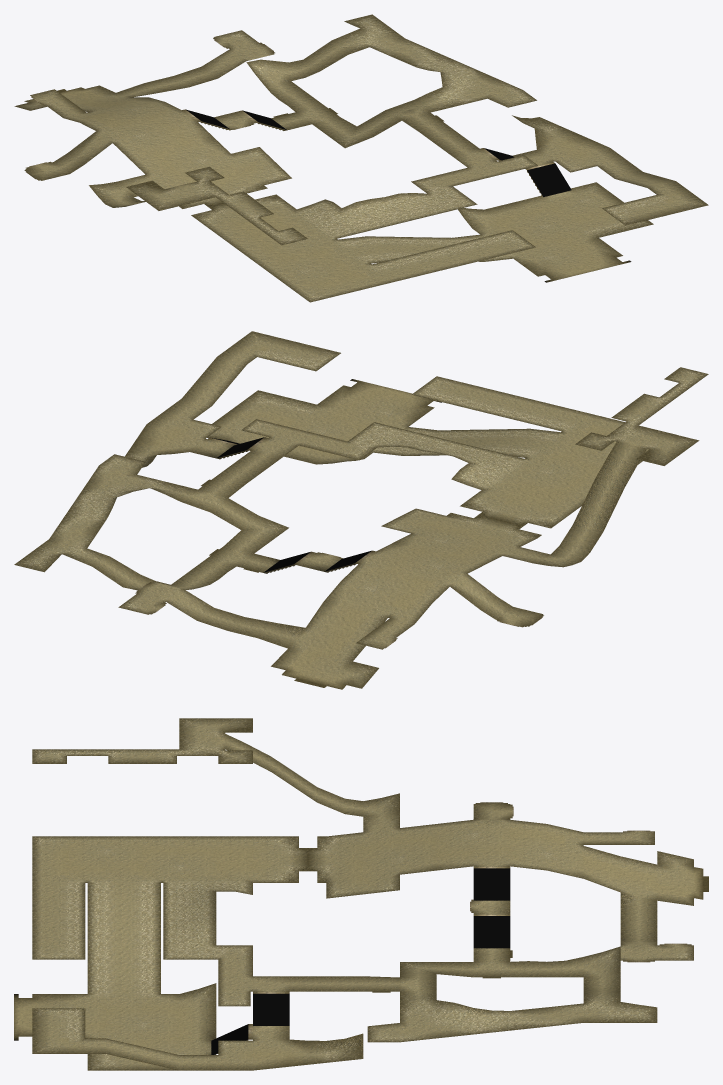
File: MISSION12_INTERIOR_LANDSCAPE01.glb
The picture shows the model from 3 angles, top to bottom: view 1: azimuth 30°, elevation 25°; view 2: azimuth 150°, elevation 25°; view 3: azimuth 270°, elevation 25°; orthographic projection. The views are drawn at different scales.
Parts seen in each view (by area): view 1: MISSION12_INTERIOR_LANDSCAPE01042, MISSION12_INTERIOR_LANDSCAPE01019, MISSION12_INTERIOR_LANDSCAPE01023, MISSION12_INTERIOR_LANDSCAPE01050, MISSION12_INTERIOR_LANDSCAPE01005, MISSION12_INTERIOR_LANDSCAPE01022, MISSION12_INTERIOR_LANDSCAPE01009, MISSION12_INTERIOR_LANDSCAPE01013, MISSION12_INTERIOR_LANDSCAPE01021, MISSION12_INTERIOR_LANDSCAPE01031, MISSION12_INTERIOR_LANDSCAPE01046, MISSION12_INTERIOR_LANDSCAPE01008 (+49 smaller); view 2: MISSION12_INTERIOR_LANDSCAPE01056, MISSION12_INTERIOR_LANDSCAPE01061, MISSION12_INTERIOR_LANDSCAPE01025, MISSION12_INTERIOR_LANDSCAPE01050, MISSION12_INTERIOR_LANDSCAPE01005, MISSION12_INTERIOR_LANDSCAPE01018, MISSION12_INTERIOR_LANDSCAPE01027, MISSION12_INTERIOR_LANDSCAPE01049, MISSION12_INTERIOR_LANDSCAPE01014, MISSION12_INTERIOR_LANDSCAPE01009, MISSION12_INTERIOR_LANDSCAPE01004, MISSION12_INTERIOR_LANDSCAPE01016 (+49 smaller); view 3: MISSION12_INTERIOR_LANDSCAPE01011, MISSION12_INTERIOR_LANDSCAPE01010, MISSION12_INTERIOR_LANDSCAPE01030, MISSION12_INTERIOR_LANDSCAPE01061, MISSION12_INTERIOR_LANDSCAPE01012, MISSION12_INTERIOR_LANDSCAPE01042, MISSION12_INTERIOR_LANDSCAPE01056, MISSION12_INTERIOR_LANDSCAPE01050, MISSION12_INTERIOR_LANDSCAPE01021, MISSION12_INTERIOR_LANDSCAPE01046, MISSION12_INTERIOR_LANDSCAPE01022, MISSION12_INTERIOR_LANDSCAPE01018 (+49 smaller).
Boxes of the visible parts, x1,y1,x2,y2 form: MISSION12_INTERIOR_LANDSCAPE01042: (158, 124, 234, 182); MISSION12_INTERIOR_LANDSCAPE01019: (305, 199, 393, 238); MISSION12_INTERIOR_LANDSCAPE01023: (533, 161, 615, 219); MISSION12_INTERIOR_LANDSCAPE01050: (125, 102, 213, 151); MISSION12_INTERIOR_LANDSCAPE01005: (550, 238, 631, 275); MISSION12_INTERIOR_LANDSCAPE01022: (476, 160, 559, 233); MISSION12_INTERIOR_LANDSCAPE01009: (289, 237, 370, 283); MISSION12_INTERIOR_LANDSCAPE01013: (517, 208, 598, 257); MISSION12_INTERIOR_LANDSCAPE01021: (419, 174, 500, 234); MISSION12_INTERIOR_LANDSCAPE01031: (512, 137, 589, 196); MISSION12_INTERIOR_LANDSCAPE01046: (441, 69, 524, 107); MISSION12_INTERIOR_LANDSCAPE01008: (222, 196, 307, 289); MISSION12_INTERIOR_LANDSCAPE01056: (313, 567, 418, 638); MISSION12_INTERIOR_LANDSCAPE01061: (288, 603, 382, 673); MISSION12_INTERIOR_LANDSCAPE01025: (573, 445, 666, 532); MISSION12_INTERIOR_LANDSCAPE01050: (341, 543, 453, 588); MISSION12_INTERIOR_LANDSCAPE01005: (317, 379, 412, 418); MISSION12_INTERIOR_LANDSCAPE01018: (490, 458, 594, 497); MISSION12_INTERIOR_LANDSCAPE01027: (460, 484, 559, 523); MISSION12_INTERIOR_LANDSCAPE01049: (402, 557, 497, 609); MISSION12_INTERIOR_LANDSCAPE01014: (214, 390, 316, 425); MISSION12_INTERIOR_LANDSCAPE01009: (526, 432, 615, 471); MISSION12_INTERIOR_LANDSCAPE01004: (374, 376, 464, 426); MISSION12_INTERIOR_LANDSCAPE01016: (608, 425, 699, 465); MISSION12_INTERIOR_LANDSCAPE01011: (87, 926, 160, 974); MISSION12_INTERIOR_LANDSCAPE01010: (87, 883, 160, 926); MISSION12_INTERIOR_LANDSCAPE01030: (234, 976, 324, 1025); MISSION12_INTERIOR_LANDSCAPE01061: (584, 848, 693, 900); MISSION12_INTERIOR_LANDSCAPE01012: (87, 974, 178, 1009); MISSION12_INTERIOR_LANDSCAPE01042: (363, 839, 472, 876); MISSION12_INTERIOR_LANDSCAPE01056: (511, 835, 619, 887); MISSION12_INTERIOR_LANDSCAPE01050: (437, 835, 546, 870); MISSION12_INTERIOR_LANDSCAPE01021: (161, 945, 234, 1009); MISSION12_INTERIOR_LANDSCAPE01046: (368, 1000, 472, 1038); MISSION12_INTERIOR_LANDSCAPE01022: (143, 976, 234, 1040); MISSION12_INTERIOR_LANDSCAPE01018: (143, 852, 252, 882).
Size of the model in its own units: 68 by 12.6 by 75.62.
17 materials, 16 textured.
